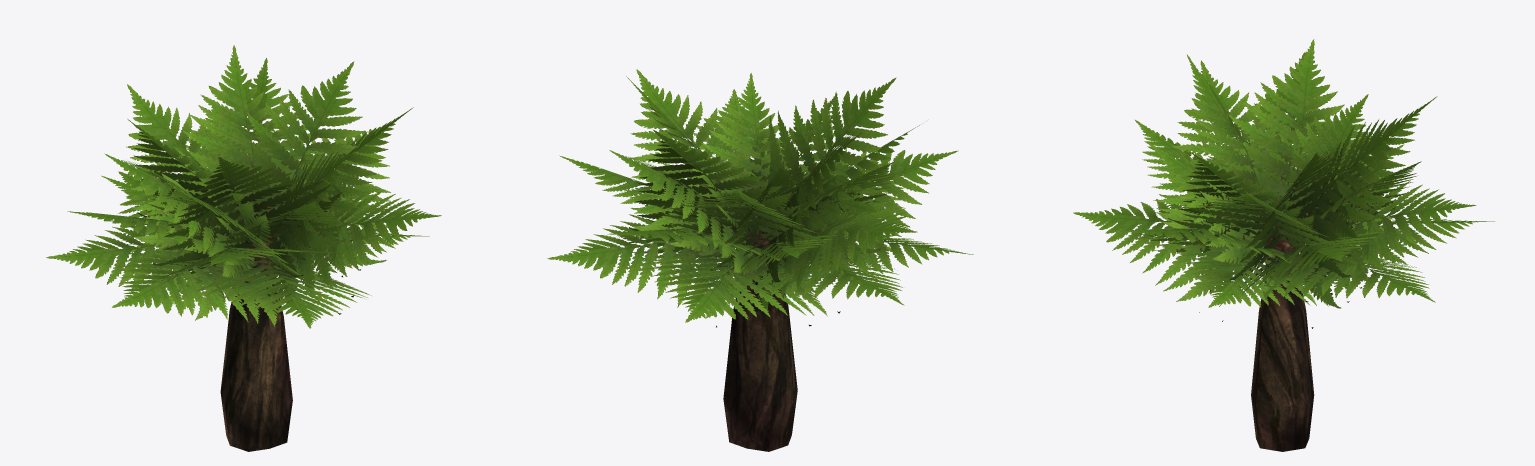
File: samambaia_cu.fbx
3 renders of one model, left to right at view 1: azimuth 30°, elevation 25°; view 2: azimuth 150°, elevation 25°; view 3: azimuth 270°, elevation 25°, orthographic. The views are drawn at different scales.
Parts seen in each view (by area): view 1: tronco; view 2: tronco; view 3: tronco.
Part boxes in pixels (bbox=[...]): tronco: bbox=[46, 45, 441, 451]; tronco: bbox=[547, 69, 973, 451]; tronco: bbox=[1073, 39, 1494, 451].
Size of the model in its own units: 246 by 203 by 242.
